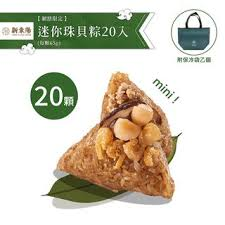zongzi: (57, 72, 174, 199)
